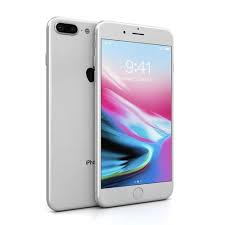iphone: (91, 19, 174, 208)
iphone8: (90, 20, 173, 209)
